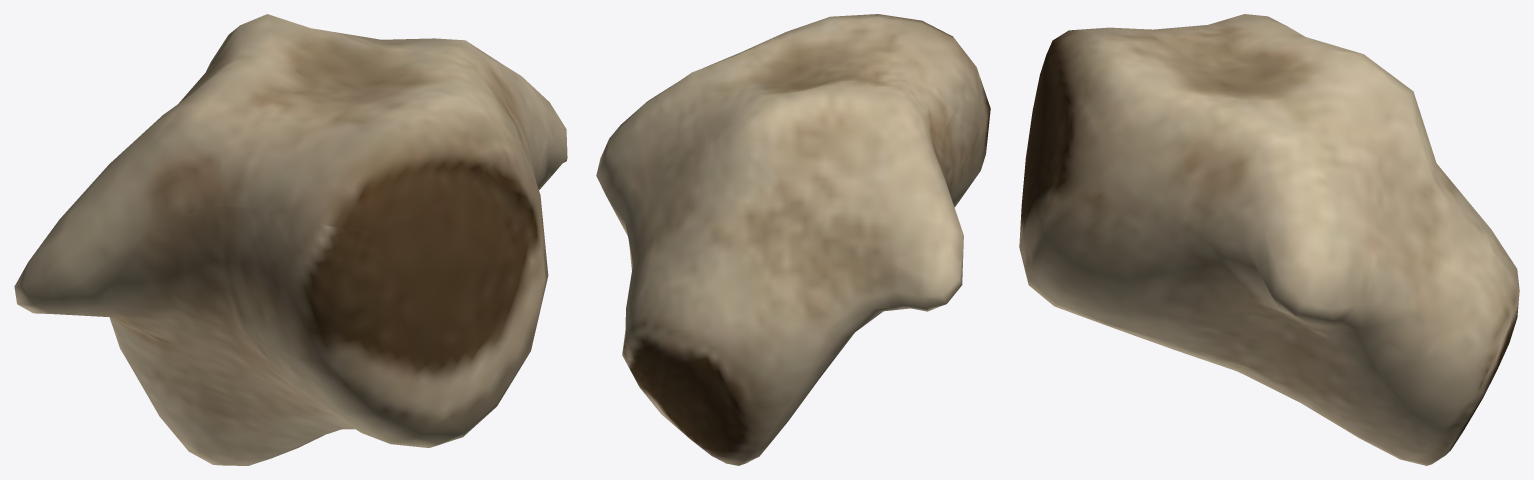
File: Caudal_Vertebrae1.glb
3 views of the same model, side by side, from view 1: azimuth 30°, elevation 25°; view 2: azimuth 150°, elevation 25°; view 3: azimuth 270°, elevation 25° (orthographic). The views are drawn at different scales.
Parts seen in each view (by area): view 1: Caudal_Vertebrae_02; view 2: Caudal_Vertebrae_02; view 3: Caudal_Vertebrae_02.
Part boxes in pixels (bbox=[...]): Caudal_Vertebrae_02: bbox=[14, 14, 567, 465]; Caudal_Vertebrae_02: bbox=[596, 14, 990, 465]; Caudal_Vertebrae_02: bbox=[1019, 14, 1519, 465].
Size of the model in its own units: 0.0453 by 0.0406 by 0.0449.
1 material, 1 textured.
